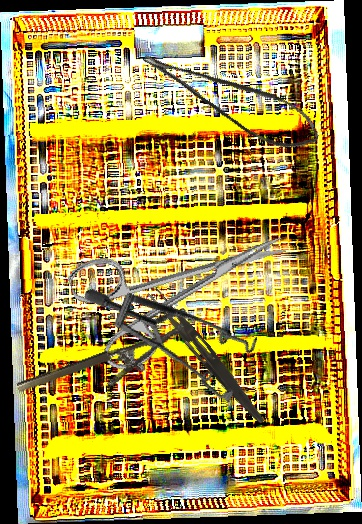Dressing Forceps: (142, 286, 272, 426)
Iris Scissors: (64, 193, 306, 379)
Micro Scissor: (139, 23, 327, 167)
Needle Holder: (15, 323, 195, 416)
Speculum: (81, 229, 278, 439)
